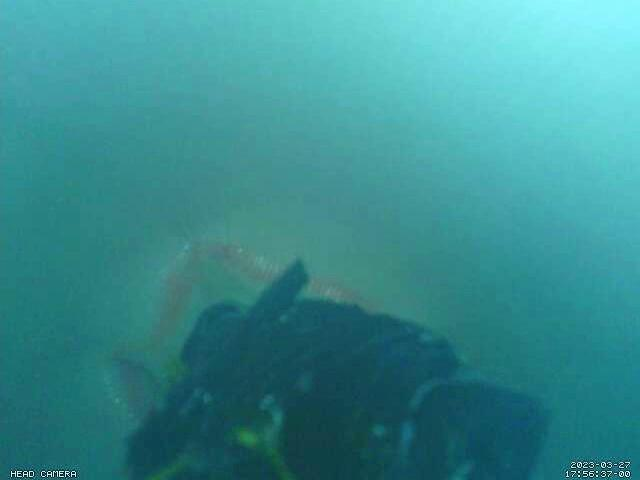head: (110, 235, 352, 424)
